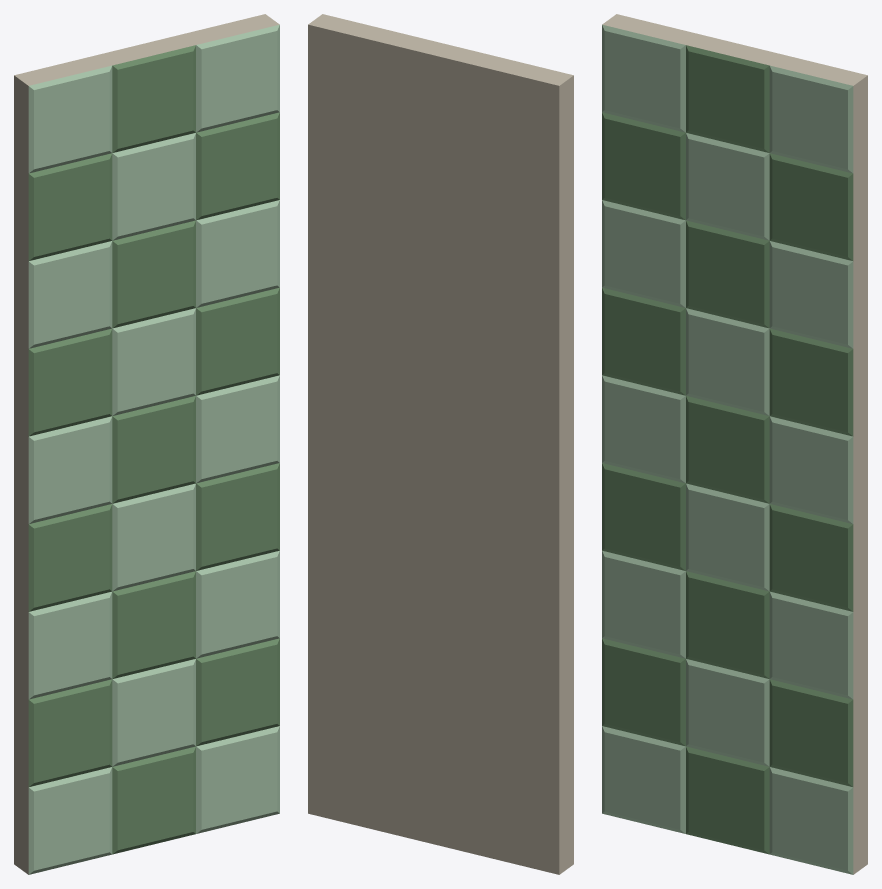
File: Mesh_WallCeramic_M1.fbx
The picture shows the model from 3 angles, left to right: view 1: azimuth 30°, elevation 25°; view 2: azimuth 150°, elevation 25°; view 3: azimuth 330°, elevation 25°; orthographic projection.
Visible parts, largest first — view 1: Mesh_WallCeramic_M1; view 2: Mesh_WallCeramic_M1; view 3: Mesh_WallCeramic_M1.
Part boxes in pixels (bbox=[...]): Mesh_WallCeramic_M1: bbox=[14, 14, 279, 874]; Mesh_WallCeramic_M1: bbox=[308, 14, 573, 874]; Mesh_WallCeramic_M1: bbox=[602, 14, 867, 874].
Size of the model in its own units: 1 by 3 by 0.1096.
